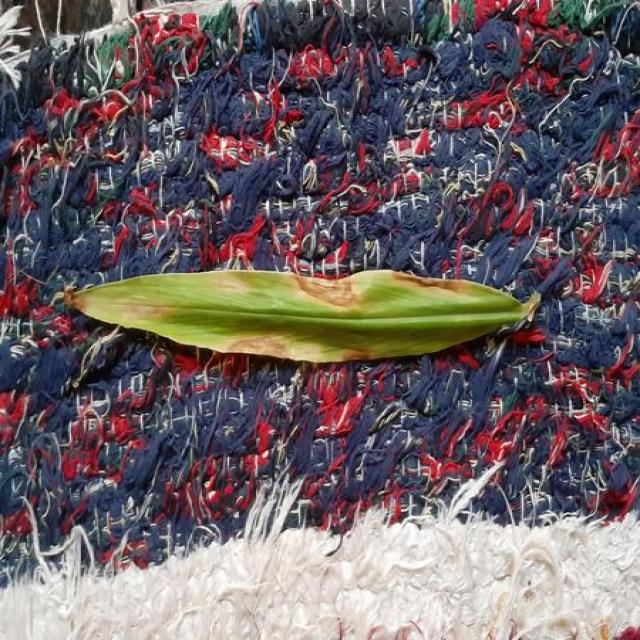bacterial wilt: (65, 270, 540, 362)
ginger: (65, 270, 528, 362)
